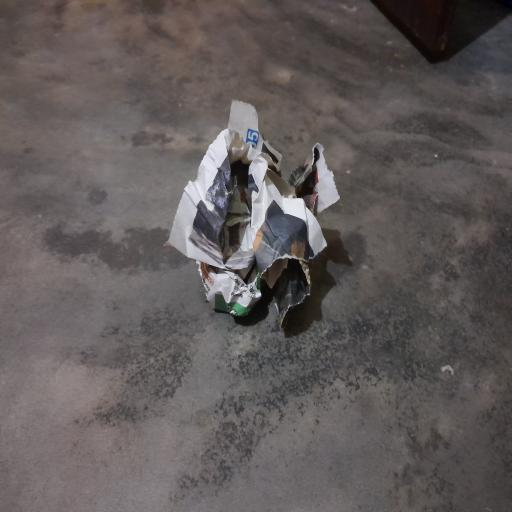waste: (163, 84, 349, 347)
